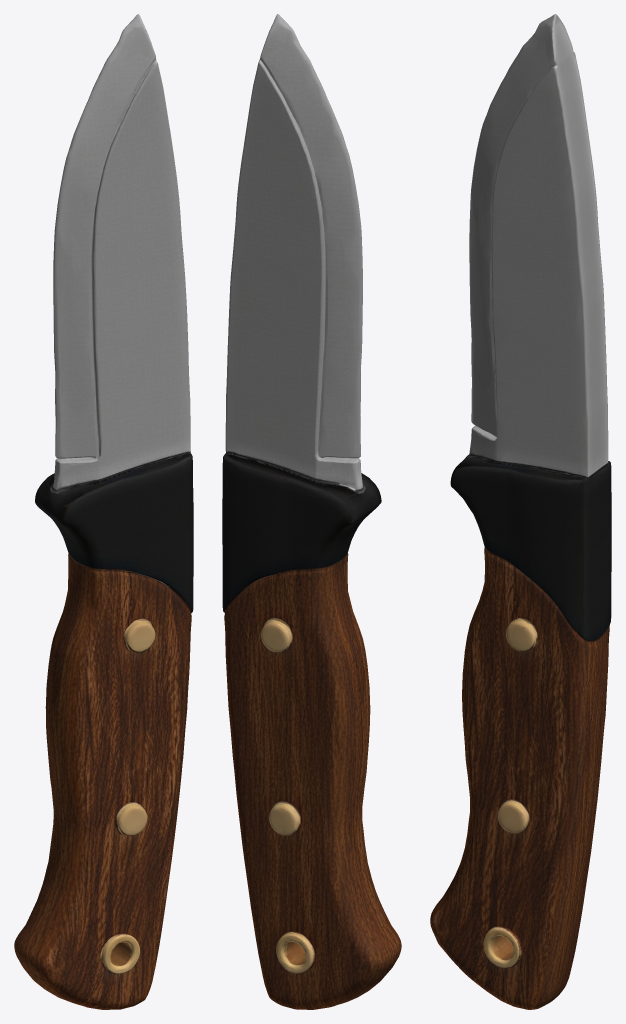
Rendered from knife.glb.
The picture shows the model from 3 angles, left to right: view 1: azimuth 30°, elevation 25°; view 2: azimuth 150°, elevation 25°; view 3: azimuth 330°, elevation 25°; orthographic projection.
Parts seen in each view (by area): view 1: tripo_node_2ef3c0b6-35f2-4226-8d64-ab3853094fbe; view 2: tripo_node_2ef3c0b6-35f2-4226-8d64-ab3853094fbe; view 3: tripo_node_2ef3c0b6-35f2-4226-8d64-ab3853094fbe.
Boxes of the visible parts, x1,y1,x2,y2 form: tripo_node_2ef3c0b6-35f2-4226-8d64-ab3853094fbe: [14, 14, 193, 1009]; tripo_node_2ef3c0b6-35f2-4226-8d64-ab3853094fbe: [222, 14, 401, 1009]; tripo_node_2ef3c0b6-35f2-4226-8d64-ab3853094fbe: [430, 14, 611, 1009].
Size of the model in its own units: 0.1703 by 1 by 0.0756.
1 material, 1 textured.
